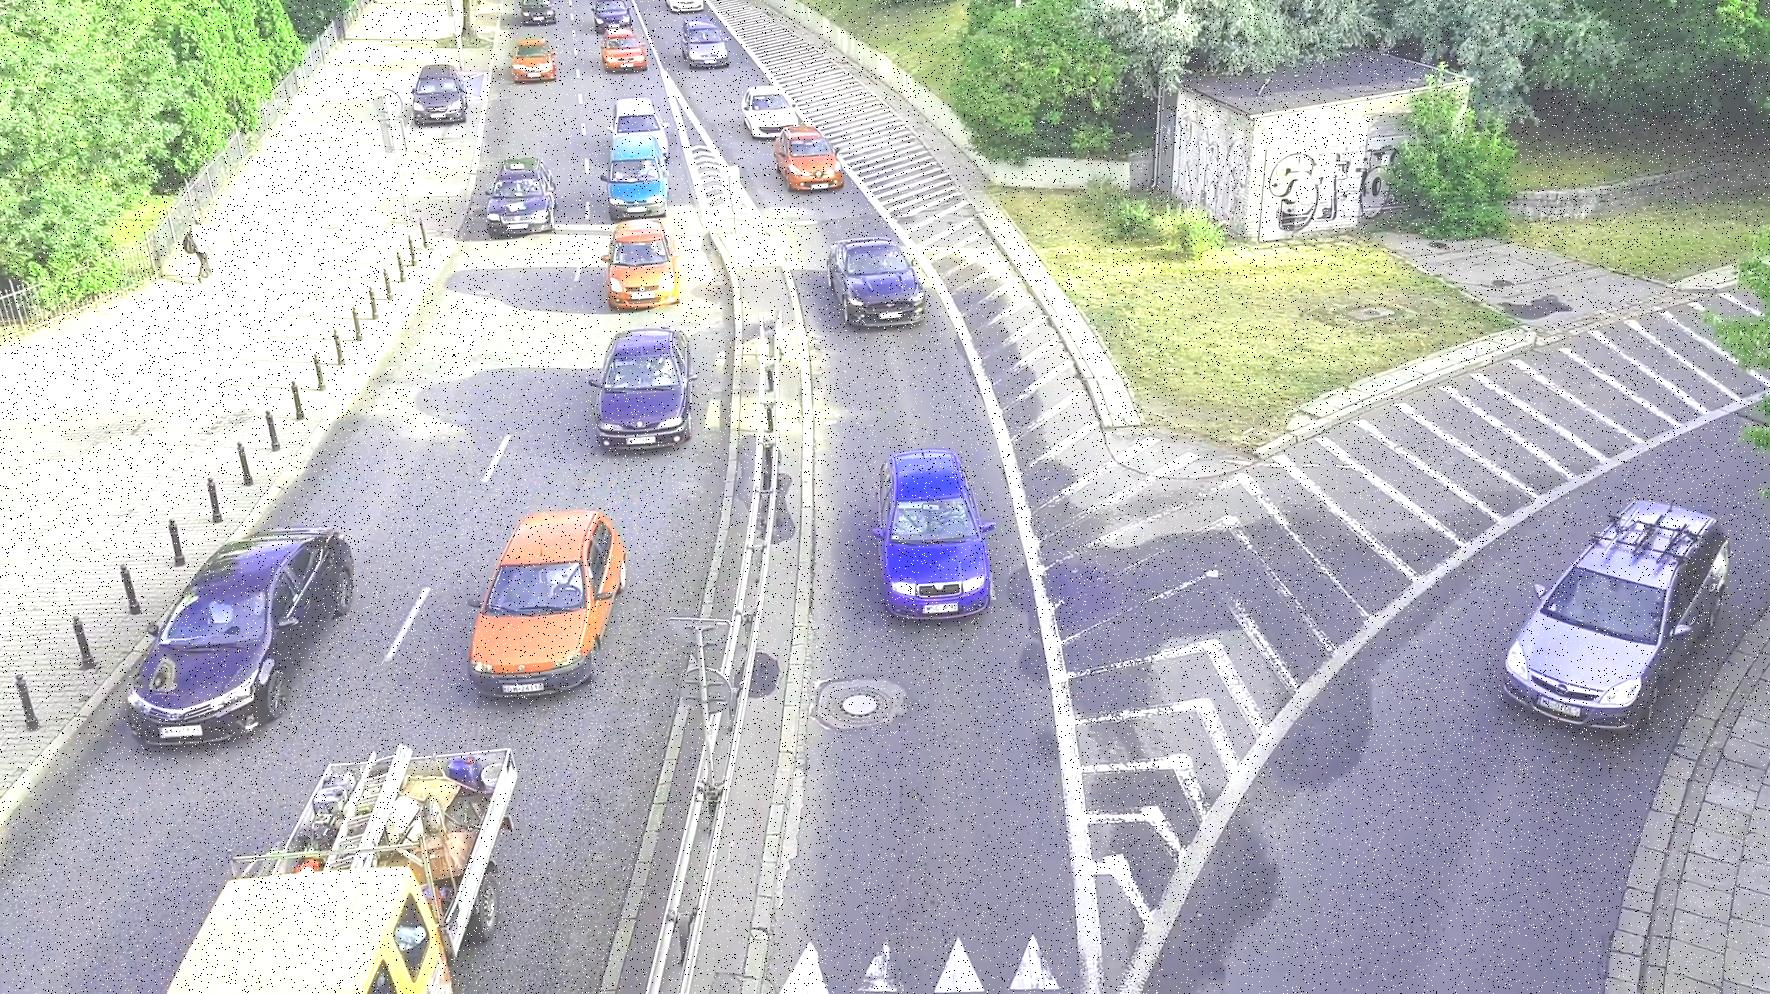car: (1498, 493, 1749, 745), (108, 512, 359, 747), (468, 499, 639, 699), (872, 446, 1003, 621), (596, 320, 701, 450), (818, 236, 936, 340), (601, 213, 690, 312), (484, 149, 562, 245), (601, 123, 670, 214), (411, 47, 475, 142), (773, 123, 845, 192), (740, 77, 799, 140), (677, 16, 731, 73), (596, 23, 652, 77), (507, 36, 557, 86), (660, 0, 699, 12)
truck: (154, 717, 536, 994)
